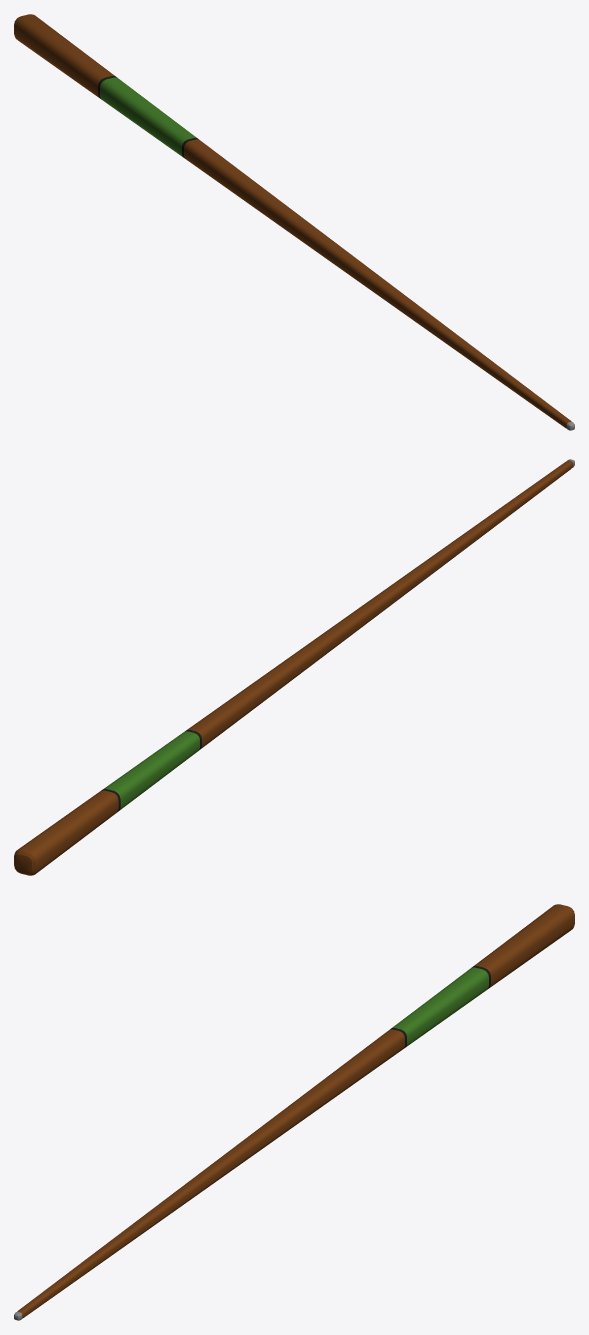
The model's file is Cue.fbx.
The picture shows the model from 3 angles, top to bottom: view 1: azimuth 30°, elevation 25°; view 2: azimuth 150°, elevation 25°; view 3: azimuth 330°, elevation 25°; orthographic projection.
Parts seen in each view (by area): view 1: Cue; view 2: Cue; view 3: Cue.
Boxes of the visible parts, x1,y1,x2,y2 form: Cue: [14, 14, 574, 430]; Cue: [14, 459, 574, 875]; Cue: [14, 904, 574, 1320].
Bounding box in the file's own units: 29.94 × 29.94 × 1231.
